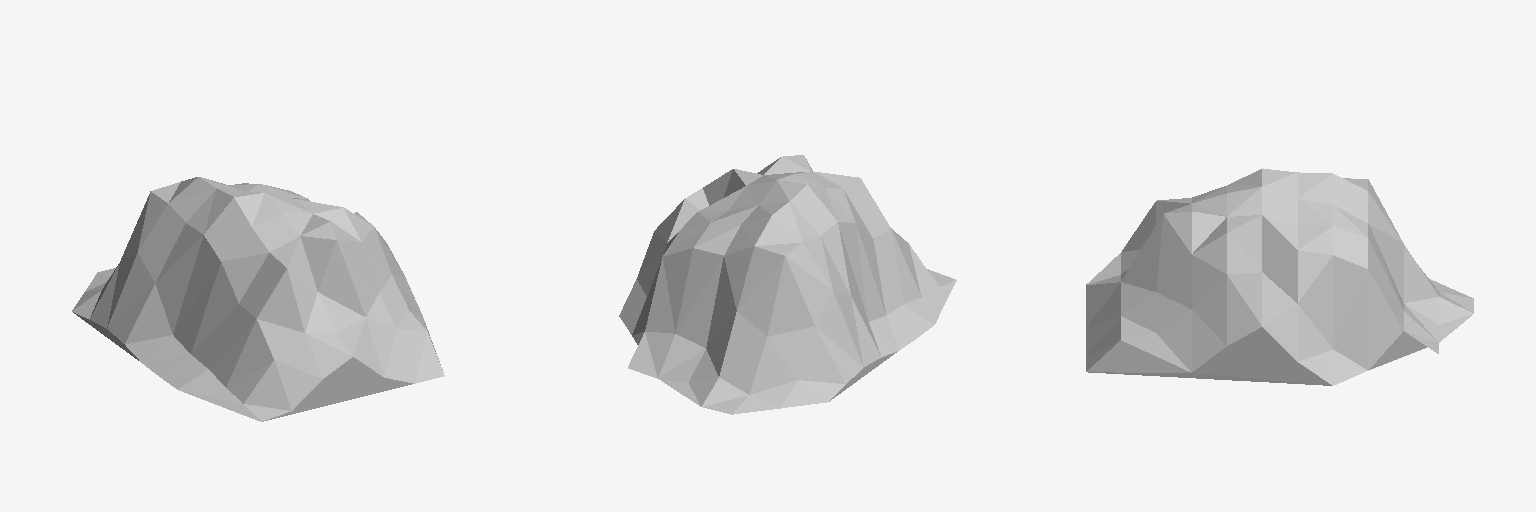
File: tree_5.obj
3 views of the same model, side by side, from view 1: azimuth 30°, elevation 25°; view 2: azimuth 150°, elevation 25°; view 3: azimuth 270°, elevation 25° (orthographic).
Parts seen in each view (by area): view 1: tree_5_minus_dtm.014; view 2: tree_5_minus_dtm.014; view 3: tree_5_minus_dtm.014.
Boxes of the visible parts, <box> form: tree_5_minus_dtm.014: <box>72,177,444,421</box>; tree_5_minus_dtm.014: <box>619,155,956,414</box>; tree_5_minus_dtm.014: <box>1086,168,1473,385</box>.
Bounding box in the file's own units: 8 × 4.53 × 11.